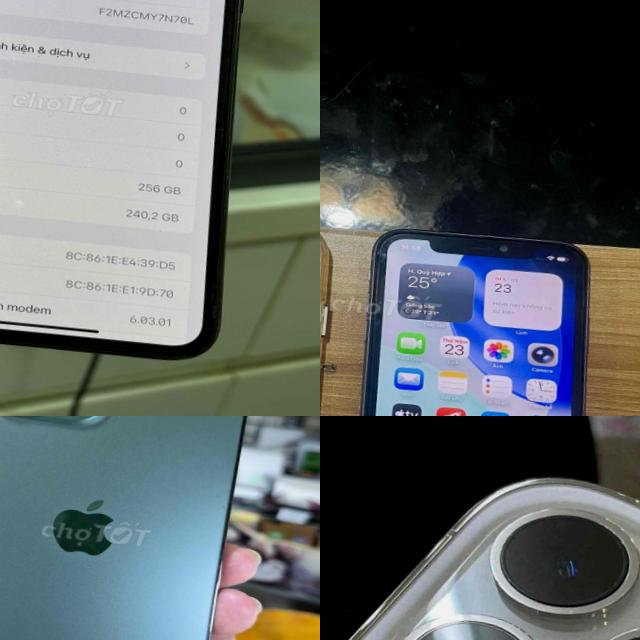gen_11: (0, 0, 277, 374), (333, 211, 639, 416)
gen_12_13: (0, 416, 263, 640)
gen_14: (320, 424, 640, 640)
